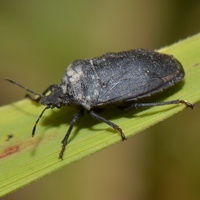insect: (0, 99, 120, 195), (148, 38, 199, 102), (98, 104, 183, 135)
